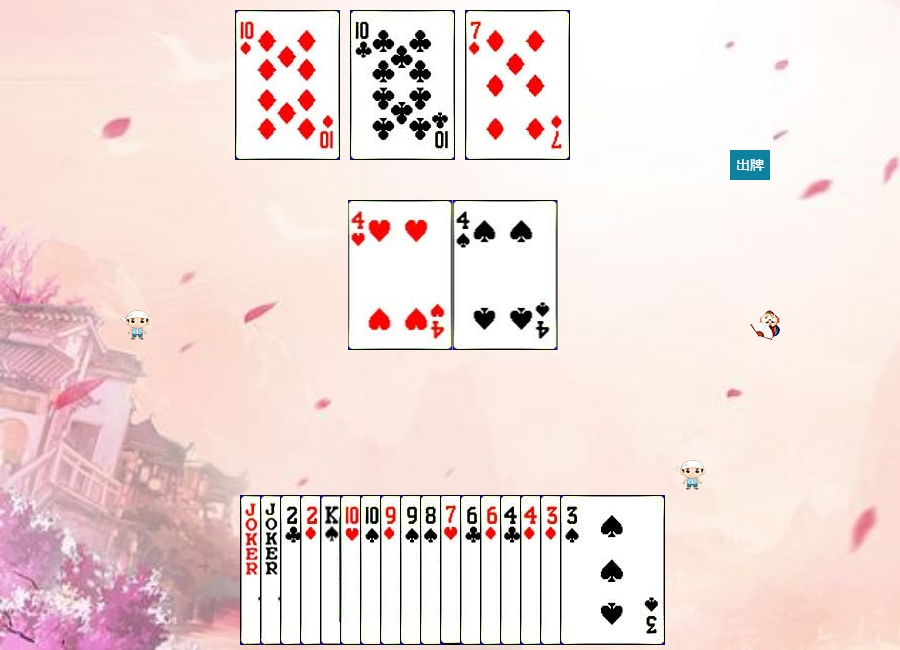10~1: (235, 10, 340, 160)
10~2: (350, 10, 455, 160)
10~3: (340, 495, 445, 645)
10~4: (360, 495, 465, 645)
13~4: (320, 495, 425, 645)
15~1: (300, 495, 405, 645)
15~2: (280, 495, 385, 645)
17~3: (260, 495, 365, 645)
18~4: (240, 495, 345, 645)
3~1: (540, 495, 645, 645)
3~4: (560, 495, 665, 645)
4~1: (520, 495, 625, 645)
4~2: (500, 495, 605, 645)
4~3: (348, 200, 453, 350)
4~4: (453, 200, 558, 350)
6~1: (480, 495, 585, 645)
6~2: (460, 495, 565, 645)
7~1: (465, 10, 570, 160)
7~3: (440, 495, 545, 645)
8~4: (420, 495, 525, 645)
9~1: (380, 495, 485, 645)
9~4: (400, 495, 505, 645)
